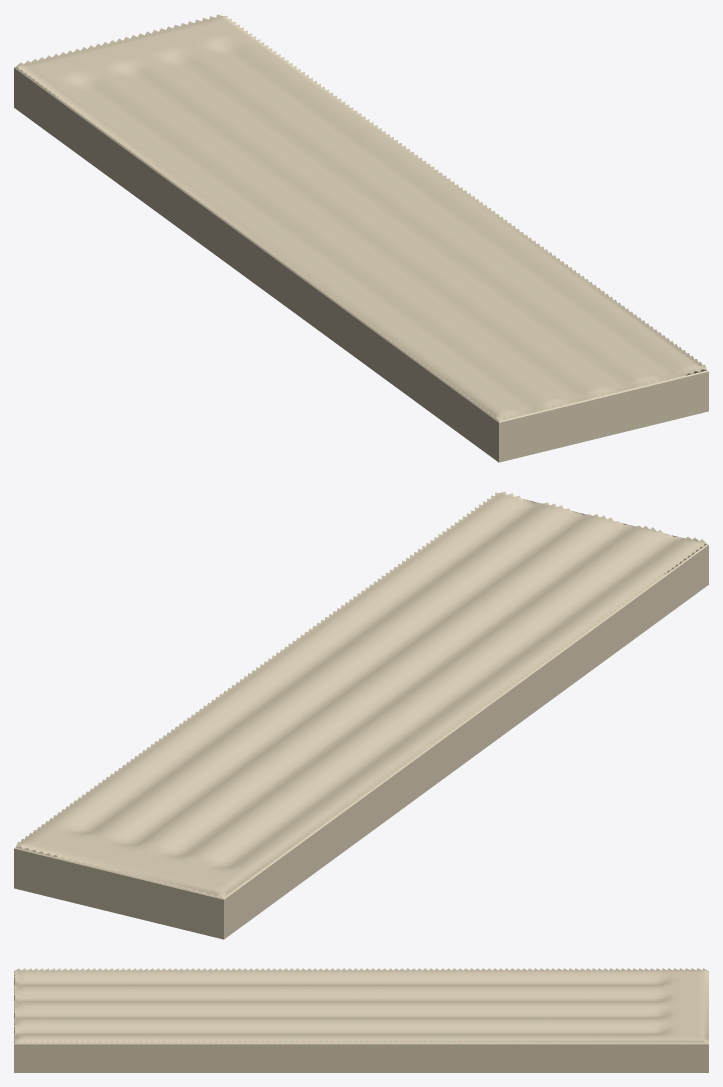
File: mahsulot.glb
The picture shows the model from 3 angles, top to bottom: view 1: azimuth 30°, elevation 25°; view 2: azimuth 150°, elevation 25°; view 3: azimuth 270°, elevation 25°; orthographic projection. The views are drawn at different scales.
Visible parts, largest first — view 1: mahsulot; view 2: mahsulot; view 3: mahsulot.
Part boxes in pixels (bbox=[...]): mahsulot: bbox=[14, 14, 708, 462]; mahsulot: bbox=[14, 491, 708, 939]; mahsulot: bbox=[14, 968, 708, 1072].
Size of the model in its own units: 0.3 by 0.0599 by 1.2.
